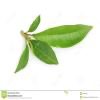Peach leaf: (33, 20, 95, 48), (27, 38, 60, 67), (10, 42, 29, 74), (27, 12, 43, 35)
